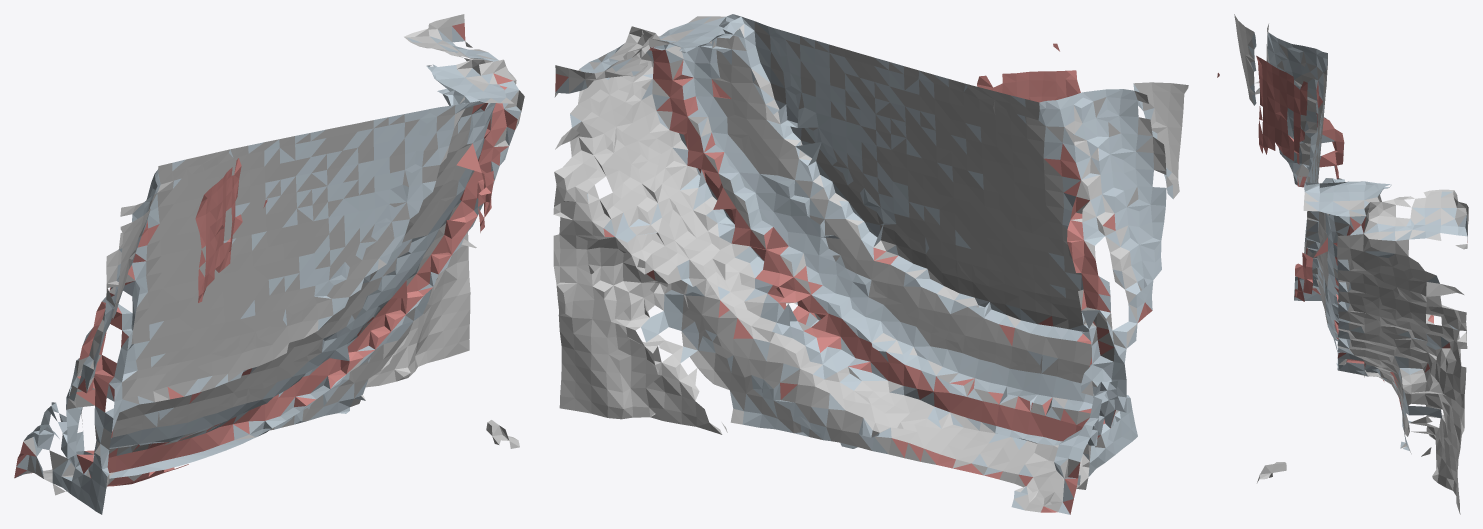
Rendered from R1-보존띠-1__lt_dynnow_ALS_s0__after.glb.
3 renders of one model, left to right at view 1: azimuth 30°, elevation 25°; view 2: azimuth 150°, elevation 25°; view 3: azimuth 270°, elevation 25°, orthographic. The views are drawn at different scales.
Bounding box in the file's own units: 51.45 × 34.39 × 26.29.
